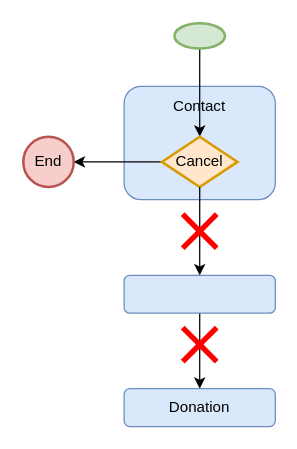
This 297x449 diagram has some shape labels left out. Here are the shapes that lost their labels. From the top down, the centre of each, then its label:
point (199, 35): Start
point (199, 293): Campaign
